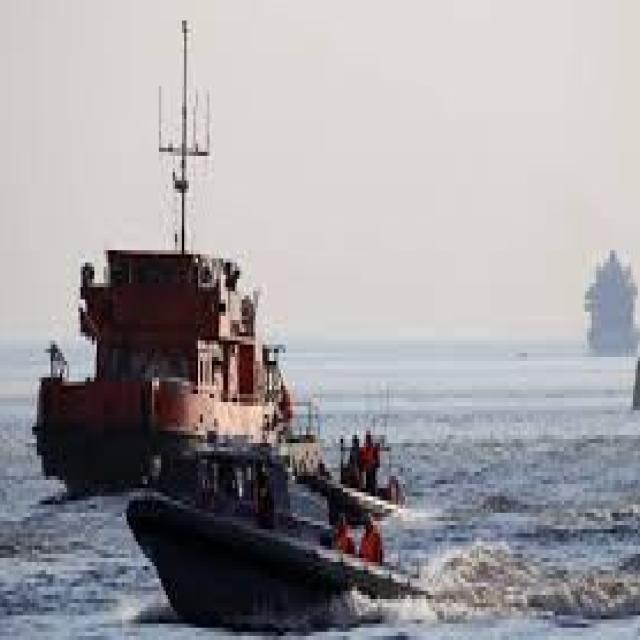houseboat: (26, 222, 281, 479), (125, 405, 350, 625), (306, 402, 409, 534)
